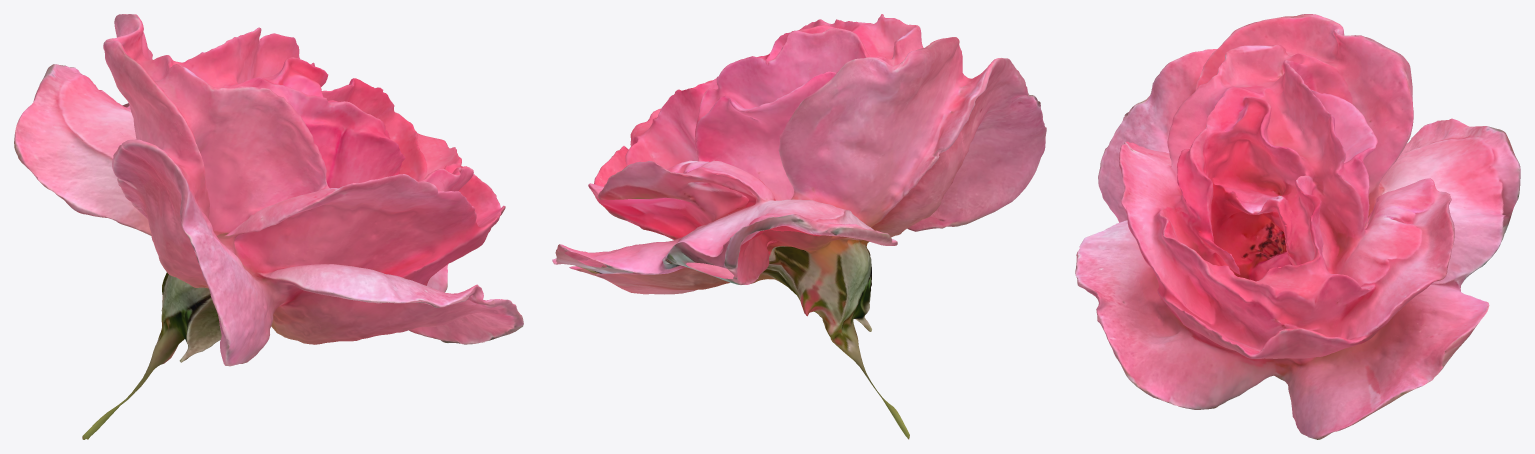
Rendered from pink_rose.glb.
3 renders of one model, left to right at view 1: azimuth 30°, elevation 25°; view 2: azimuth 150°, elevation 25°; view 3: azimuth 270°, elevation 25°, orthographic. The views are drawn at different scales.
Parts seen in each view (by area): view 1: Object_2; view 2: Object_2; view 3: Object_2.
Boxes of the visible parts, left/top/right/bottom form: Object_2: left=14, top=14, right=523, bottom=439; Object_2: left=552, top=14, right=1046, bottom=439; Object_2: left=1075, top=14, right=1520, bottom=439.
Bounding box in the file's own units: 0.0973 × 0.0978 × 0.1117.
Materials: 1 (1 with a texture image).
